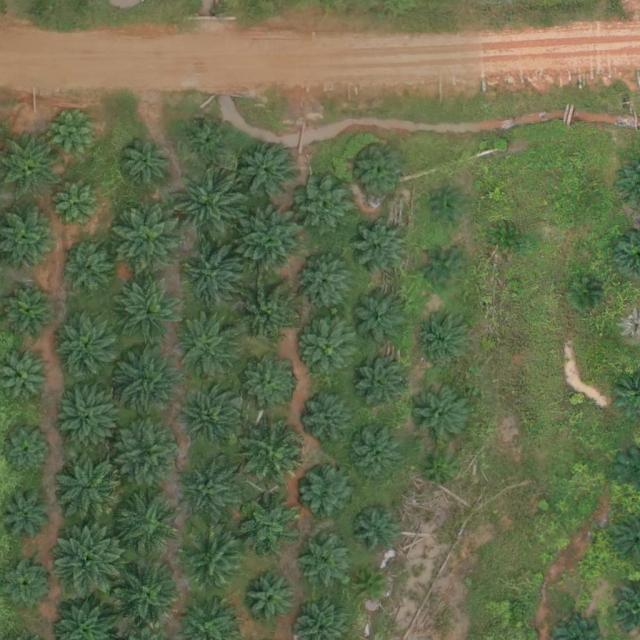Healthy: (176, 163, 254, 241), (52, 526, 123, 597), (115, 202, 185, 273), (114, 345, 185, 415), (114, 419, 184, 490), (177, 524, 247, 595), (116, 562, 186, 633), (54, 455, 124, 526), (118, 277, 188, 347), (185, 244, 248, 307), (179, 316, 242, 379), (179, 391, 242, 454), (240, 210, 303, 273), (235, 283, 298, 346), (244, 422, 307, 485), (181, 460, 243, 523), (241, 498, 303, 561), (116, 492, 178, 555), (58, 314, 120, 376), (60, 385, 122, 447), (120, 137, 175, 193), (302, 321, 357, 377), (241, 146, 296, 201), (242, 356, 297, 411), (299, 258, 354, 313), (302, 391, 357, 446), (301, 466, 356, 521), (354, 222, 409, 277), (349, 430, 404, 485), (416, 313, 471, 368), (300, 532, 355, 587), (243, 573, 298, 628), (298, 180, 352, 235), (353, 293, 407, 348), (353, 356, 407, 411), (416, 388, 470, 443), (6, 290, 53, 337), (2, 355, 49, 402), (69, 248, 116, 295)
Small: (50, 108, 105, 163), (2, 424, 57, 479), (357, 146, 404, 194), (54, 181, 101, 228), (355, 508, 402, 555), (427, 250, 466, 289), (191, 123, 230, 162), (490, 221, 529, 260), (425, 456, 456, 488), (358, 569, 389, 601), (433, 194, 464, 225), (571, 281, 602, 312)
